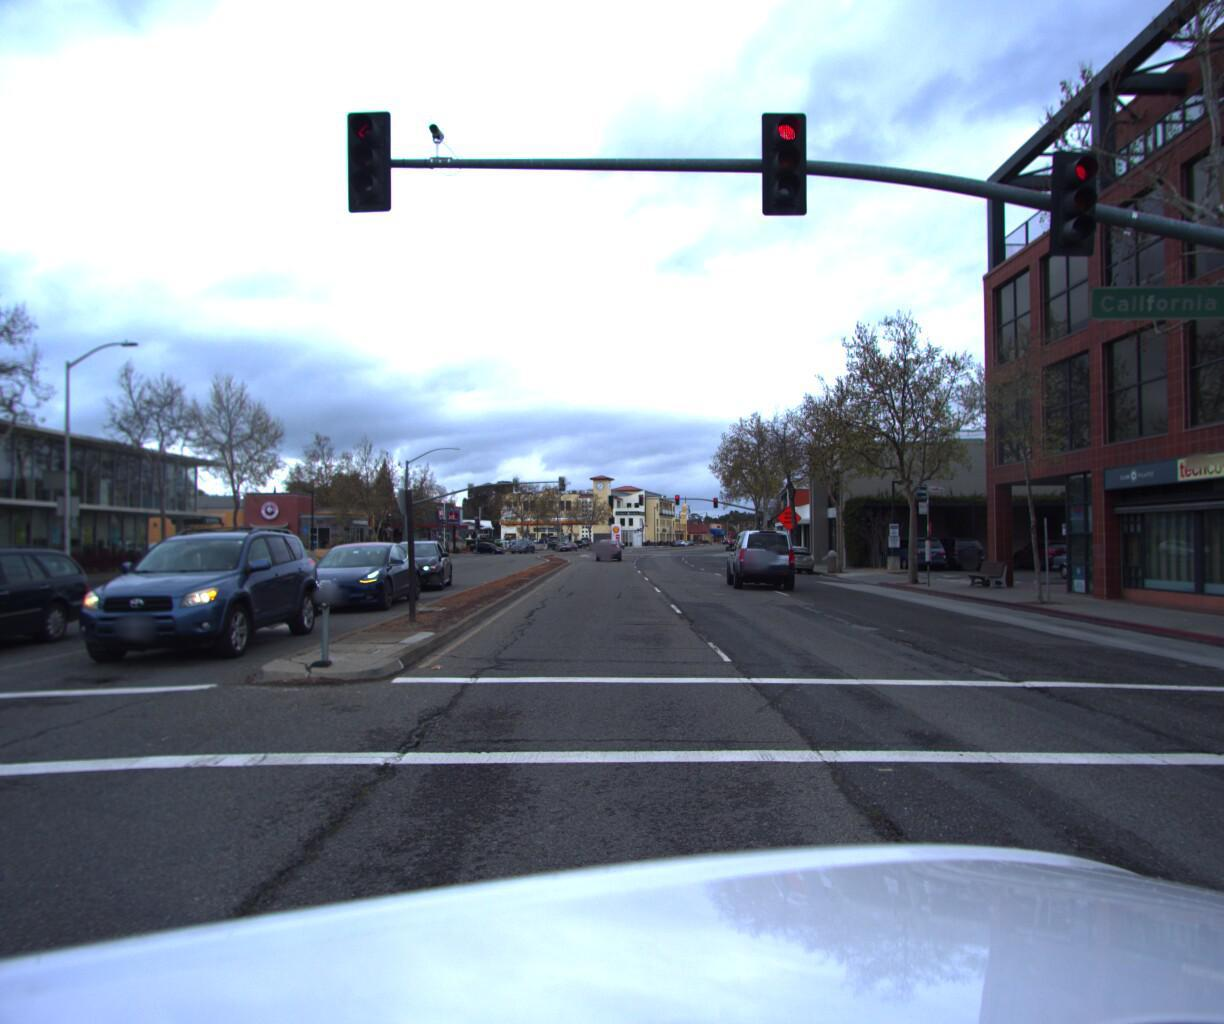car: (50, 524, 339, 687), (281, 547, 429, 623), (1037, 549, 1160, 594), (377, 552, 458, 615), (725, 532, 795, 598), (870, 544, 944, 583), (914, 544, 982, 578), (763, 555, 814, 587), (595, 551, 624, 575)
